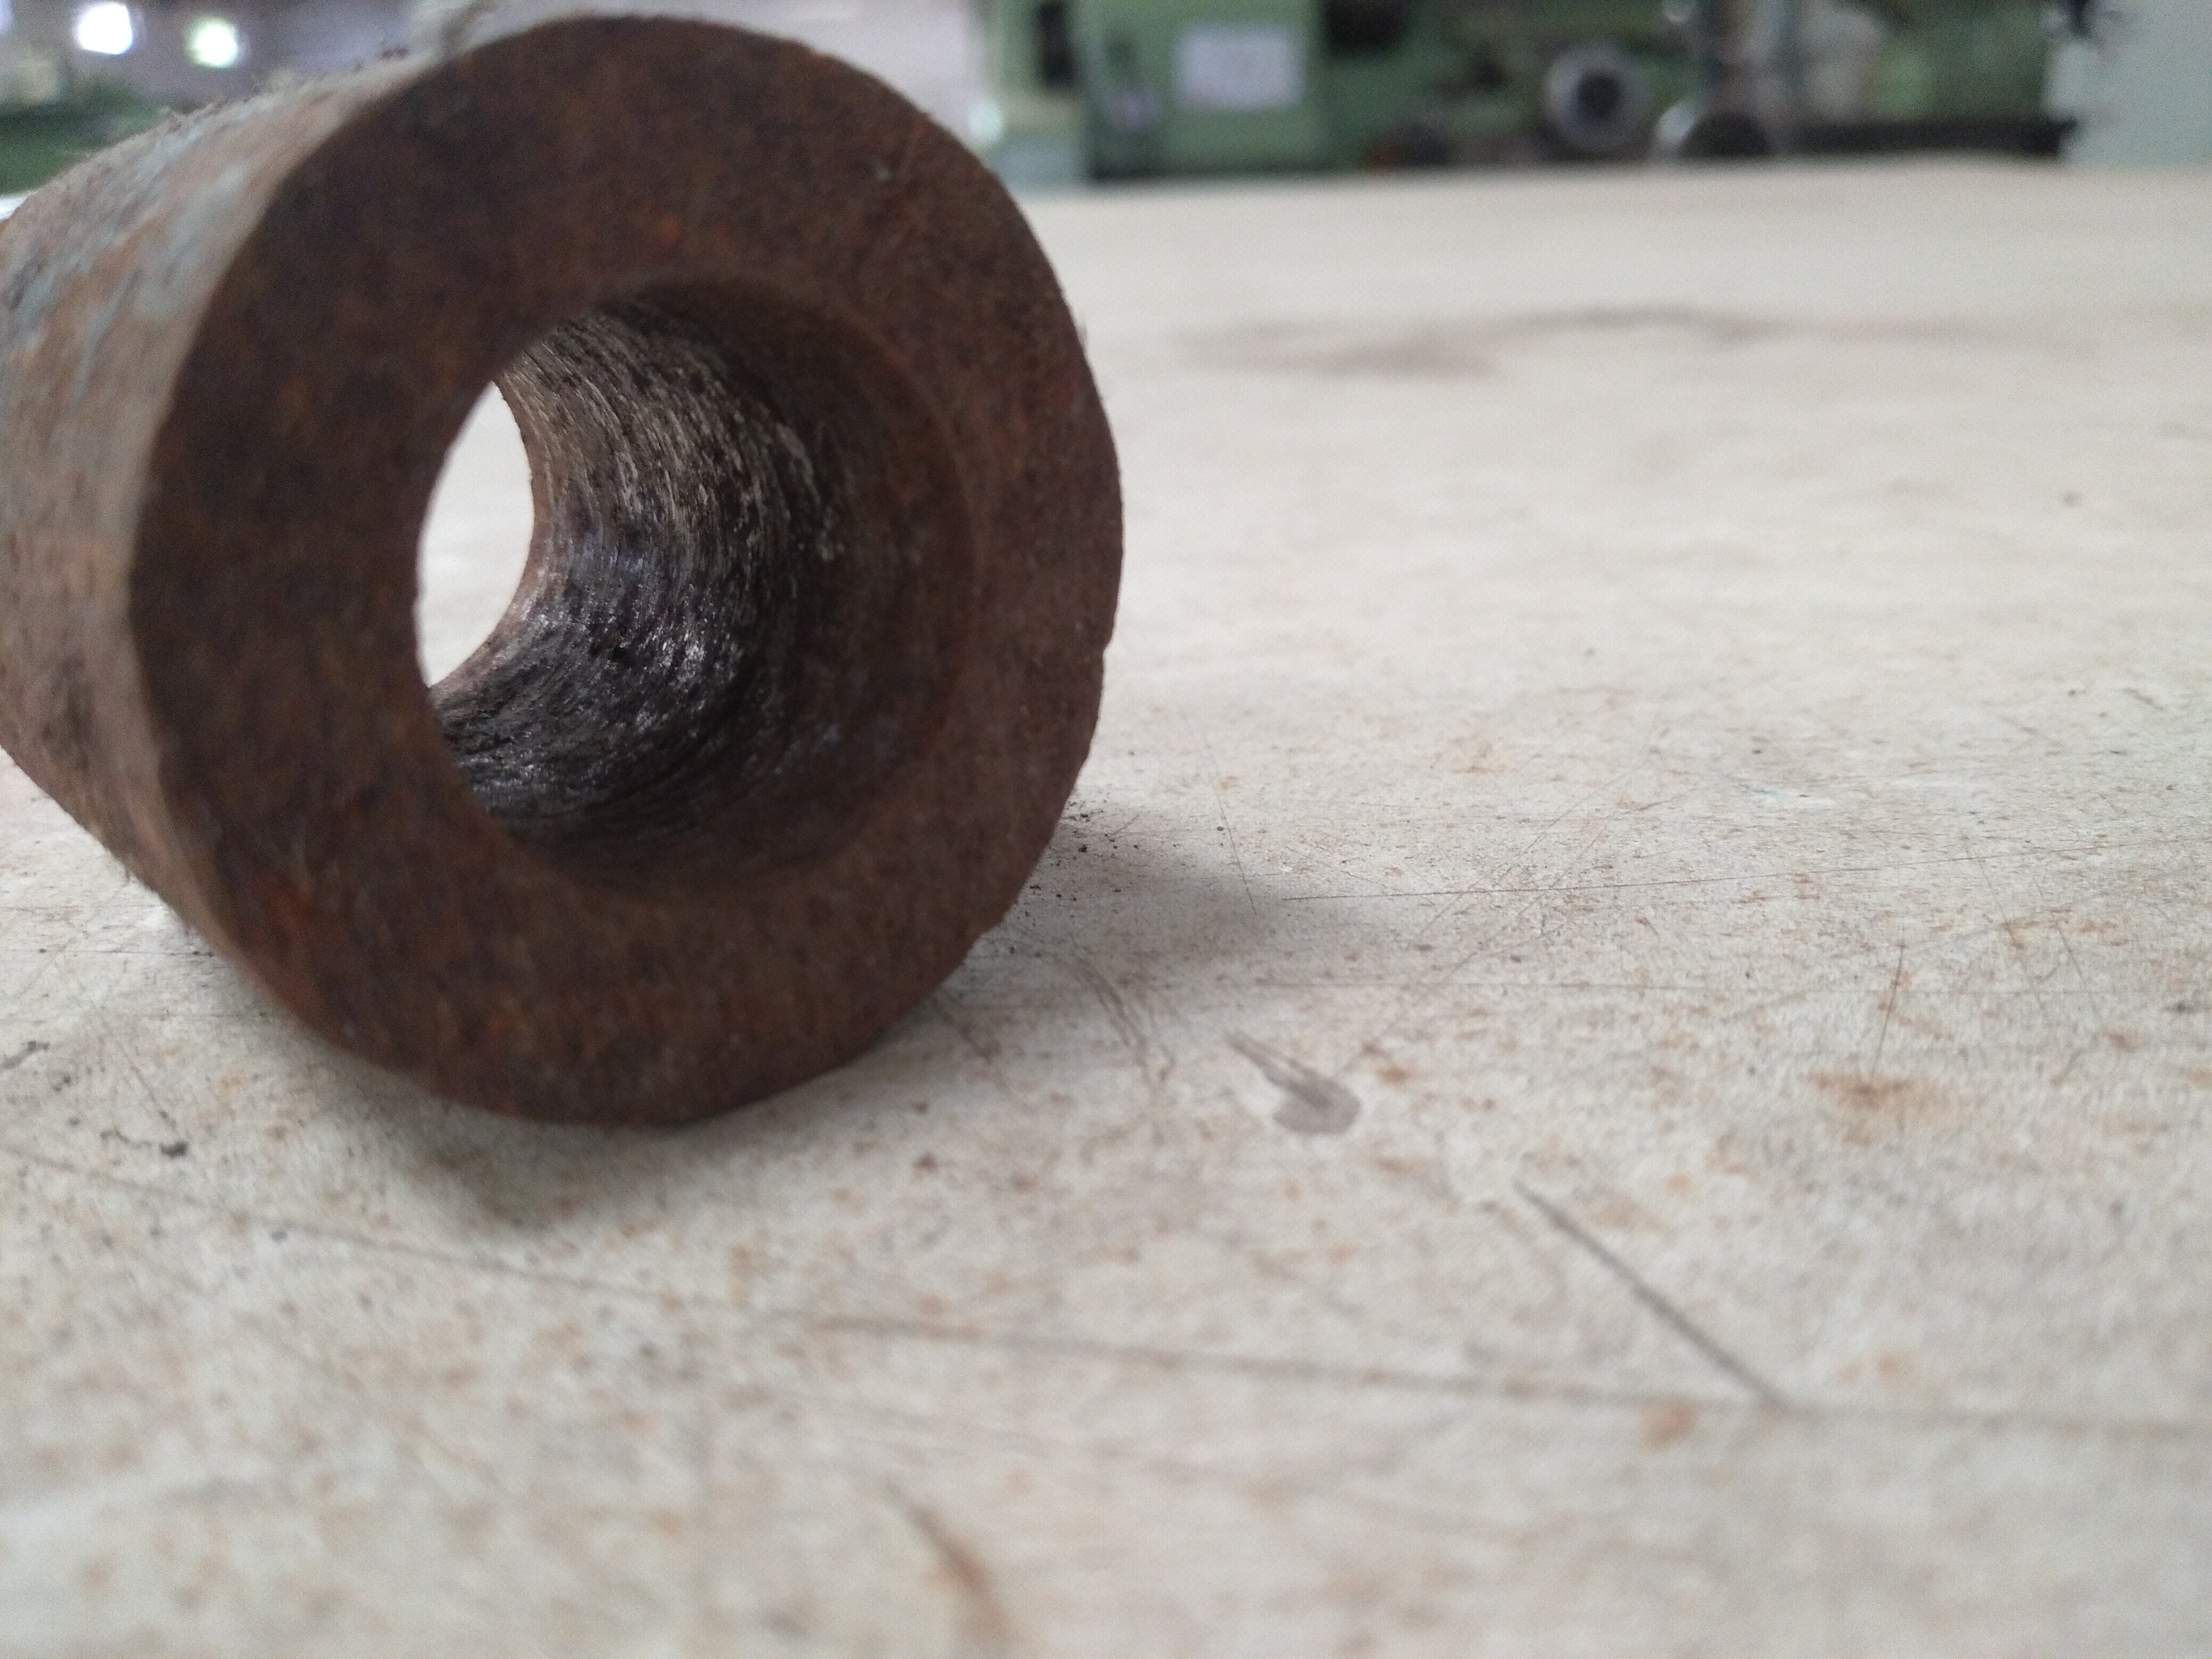No thread: (341, 200, 1109, 1000)
